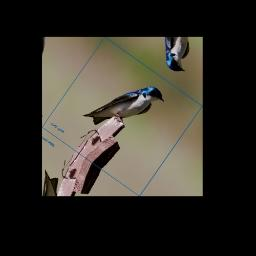Swallow: (81, 61, 168, 151)
